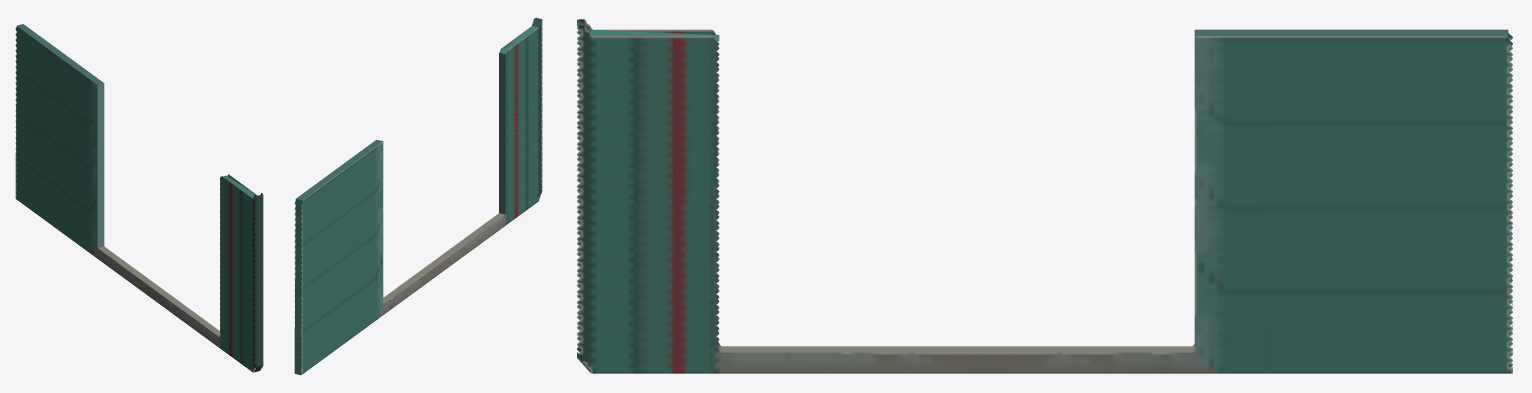
Rendered from pz_native_location_restaurant_diner_01_18_frame.obj.
The picture shows the model from 3 angles, left to right: view 1: azimuth 30°, elevation 25°; view 2: azimuth 150°, elevation 25°; view 3: azimuth 270°, elevation 25°; orthographic projection. The views are drawn at different scales.
Parts seen in each view (by area): view 1: pz_native_location_restaurant_diner_01_18_frame; view 2: pz_native_location_restaurant_diner_01_18_frame; view 3: pz_native_location_restaurant_diner_01_18_frame.
Part boxes in pixels (x1,y1,x2,y2): pz_native_location_restaurant_diner_01_18_frame: (15,24,263,372); pz_native_location_restaurant_diner_01_18_frame: (294,17,542,375); pz_native_location_restaurant_diner_01_18_frame: (577,19,1512,373).
Size of the model in its own units: 0.04 by 1.06 by 2.54.
Materials: 1 (1 with a texture image).
